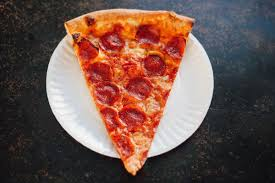pizza: (57, 5, 206, 176)
